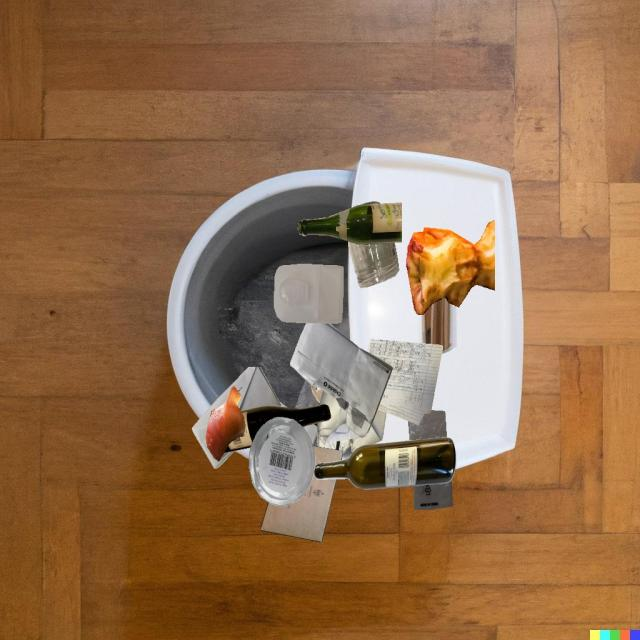biowaste: (406, 220, 495, 315), (206, 385, 245, 461)
glass: (315, 437, 456, 490), (224, 404, 331, 453), (298, 203, 402, 245), (348, 241, 399, 288)
paper: (290, 323, 393, 437), (192, 367, 281, 469), (367, 339, 443, 425), (260, 467, 336, 542), (317, 390, 386, 454), (303, 424, 317, 446)
plastic: (249, 417, 315, 506), (274, 264, 344, 324), (413, 480, 453, 510), (408, 410, 447, 440), (311, 384, 322, 403)
